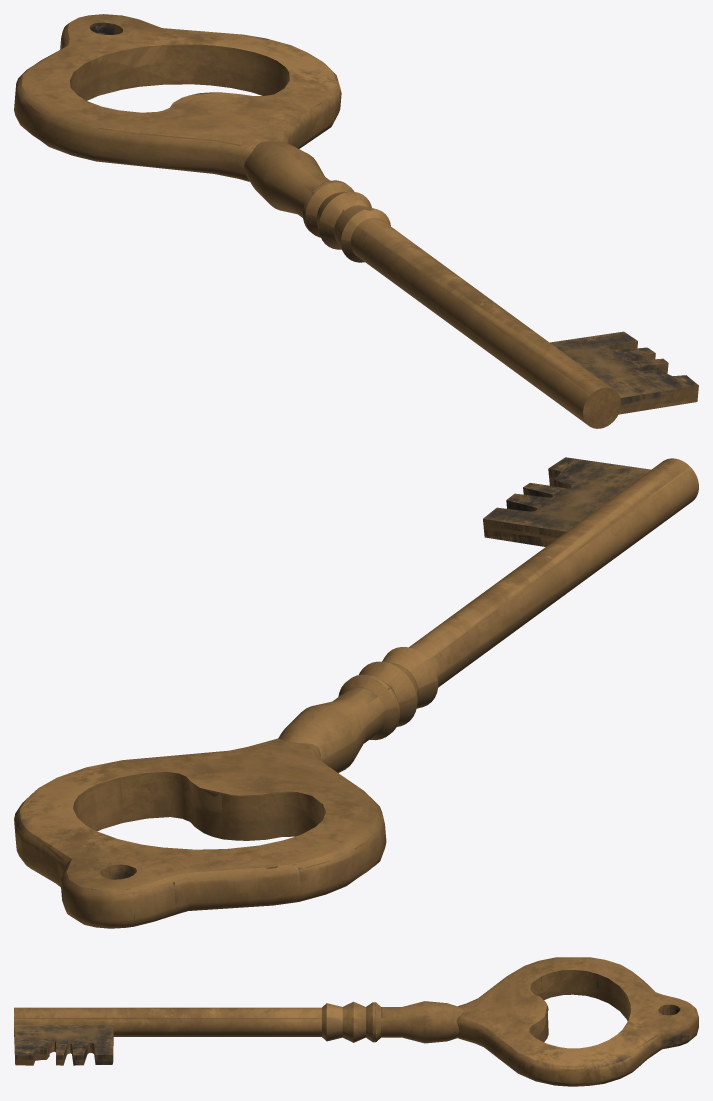
File: schluessel.glb
3 views of the same model, one above another, from view 1: azimuth 30°, elevation 25°; view 2: azimuth 150°, elevation 25°; view 3: azimuth 270°, elevation 25° (orthographic). The views are drawn at different scales.
Parts seen in each view (by area): view 1: Plane; view 2: Plane; view 3: Plane.
Boxes of the visible parts, bbox=[...] form: Plane: bbox=[14, 14, 698, 428]; Plane: bbox=[14, 457, 698, 928]; Plane: bbox=[14, 957, 698, 1086].
Bounding box in the file's own units: 1.01 × 0.199 × 3.07.
Materials: 1 (1 with a texture image).
